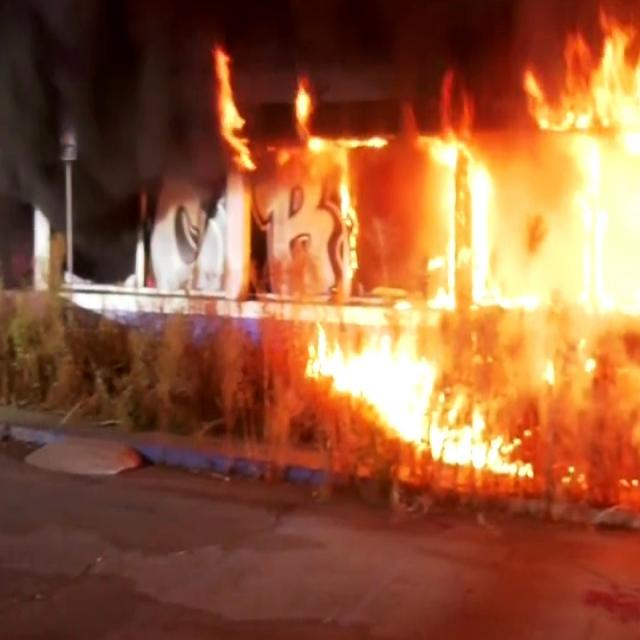fire: (304, 264, 512, 470), (521, 0, 640, 313)
